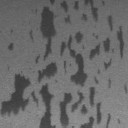red iron: (2, 0, 124, 128), (6, 42, 14, 51), (124, 82, 128, 93), (9, 28, 14, 34), (7, 64, 10, 70)
